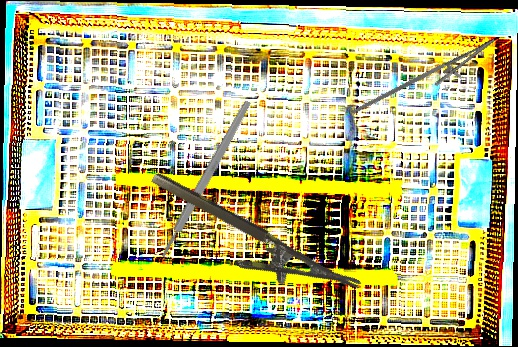Needle Holder: (135, 169, 363, 323), (350, 21, 503, 141)
Scalpel Handle: (158, 99, 253, 259)
